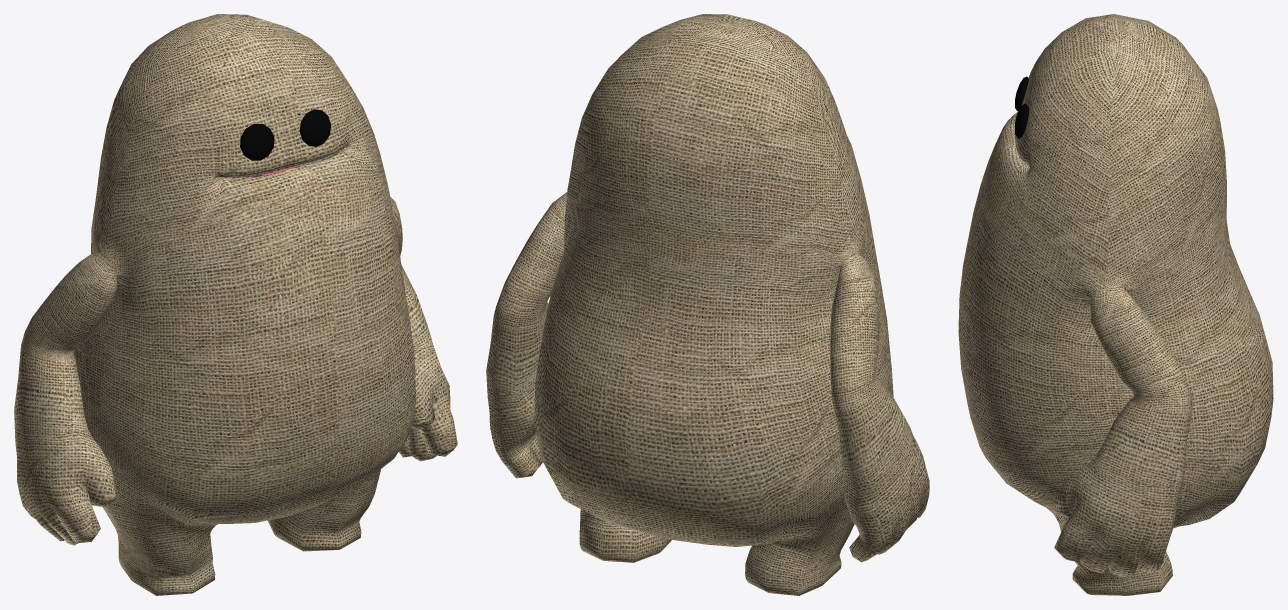
The model's file is toggle.obj.
3 views of the same model, side by side, from view 1: azimuth 30°, elevation 25°; view 2: azimuth 150°, elevation 25°; view 3: azimuth 270°, elevation 25° (orthographic). The views are drawn at different scales.
Parts seen in each view (by area): view 1: toggle, eyes; view 2: toggle; view 3: toggle, eyes.
Boxes of the visible parts, x1,y1,x2,y2 form: toggle: [14, 14, 457, 595]; eyes: [240, 109, 331, 160]; toggle: [486, 14, 929, 595]; toggle: [958, 14, 1273, 595]; eyes: [1015, 76, 1029, 138].
Size of the model in its own units: 227 by 286 by 159.
Materials: 3 (3 with a texture image).
